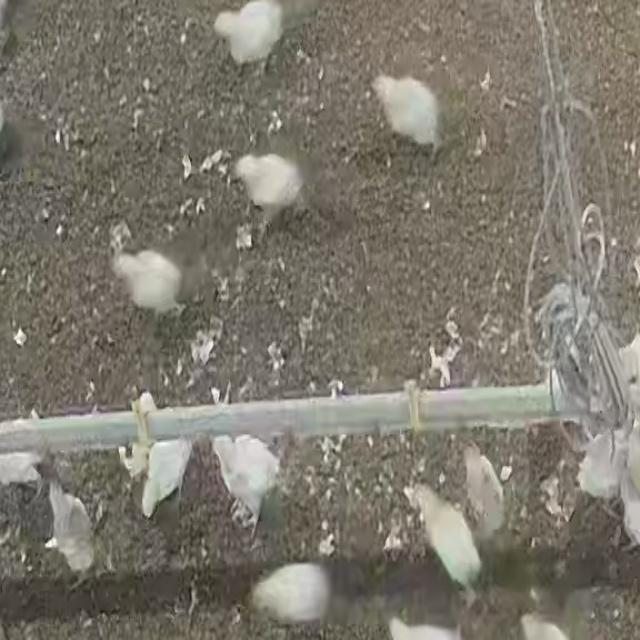chicken: (408, 485, 484, 597), (210, 433, 279, 533), (249, 560, 330, 629), (373, 74, 442, 154), (234, 153, 309, 225), (41, 485, 100, 576), (111, 248, 185, 318), (460, 439, 509, 536), (213, 0, 283, 67), (139, 435, 193, 519)
